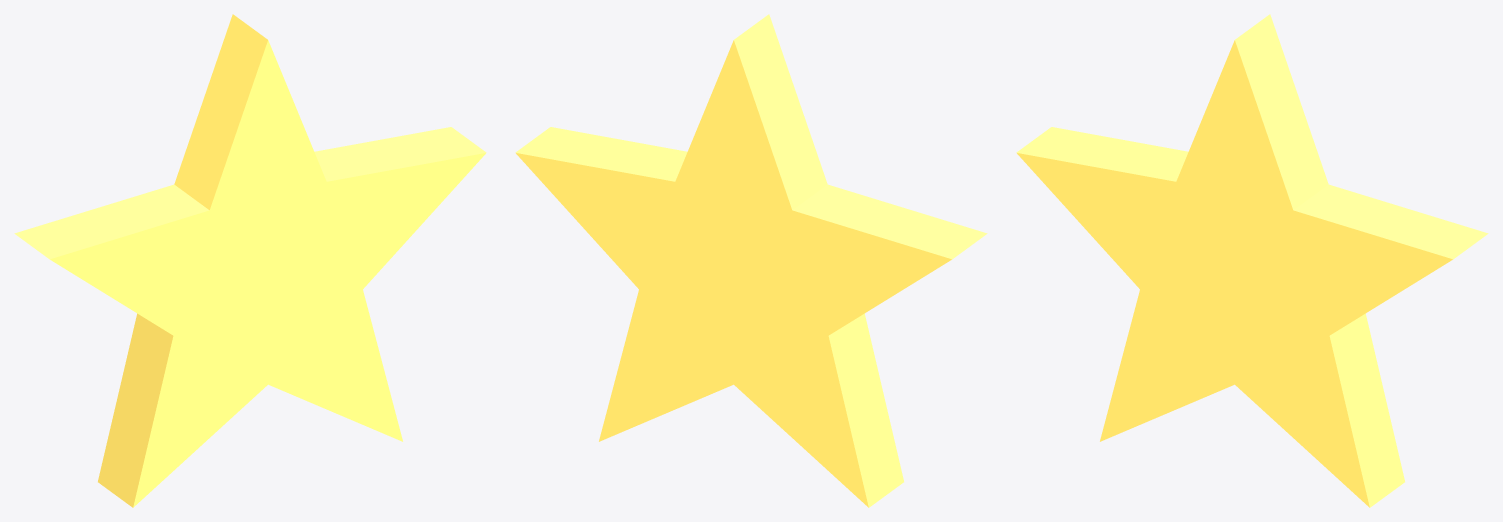
File: ui_star.glb
3 views of the same model, side by side, from view 1: azimuth 30°, elevation 25°; view 2: azimuth 150°, elevation 25°; view 3: azimuth 330°, elevation 25° (orthographic).
Parts seen in each view (by area): view 1: star; view 2: star; view 3: star.
Boxes of the visible parts, box(x1,y1,x2,y2) form: star: box(14, 14, 486, 507); star: box(515, 14, 987, 507); star: box(1016, 14, 1488, 507).
Bounding box in the file's own units: 0.0571 × 0.0543 × 0.008.
